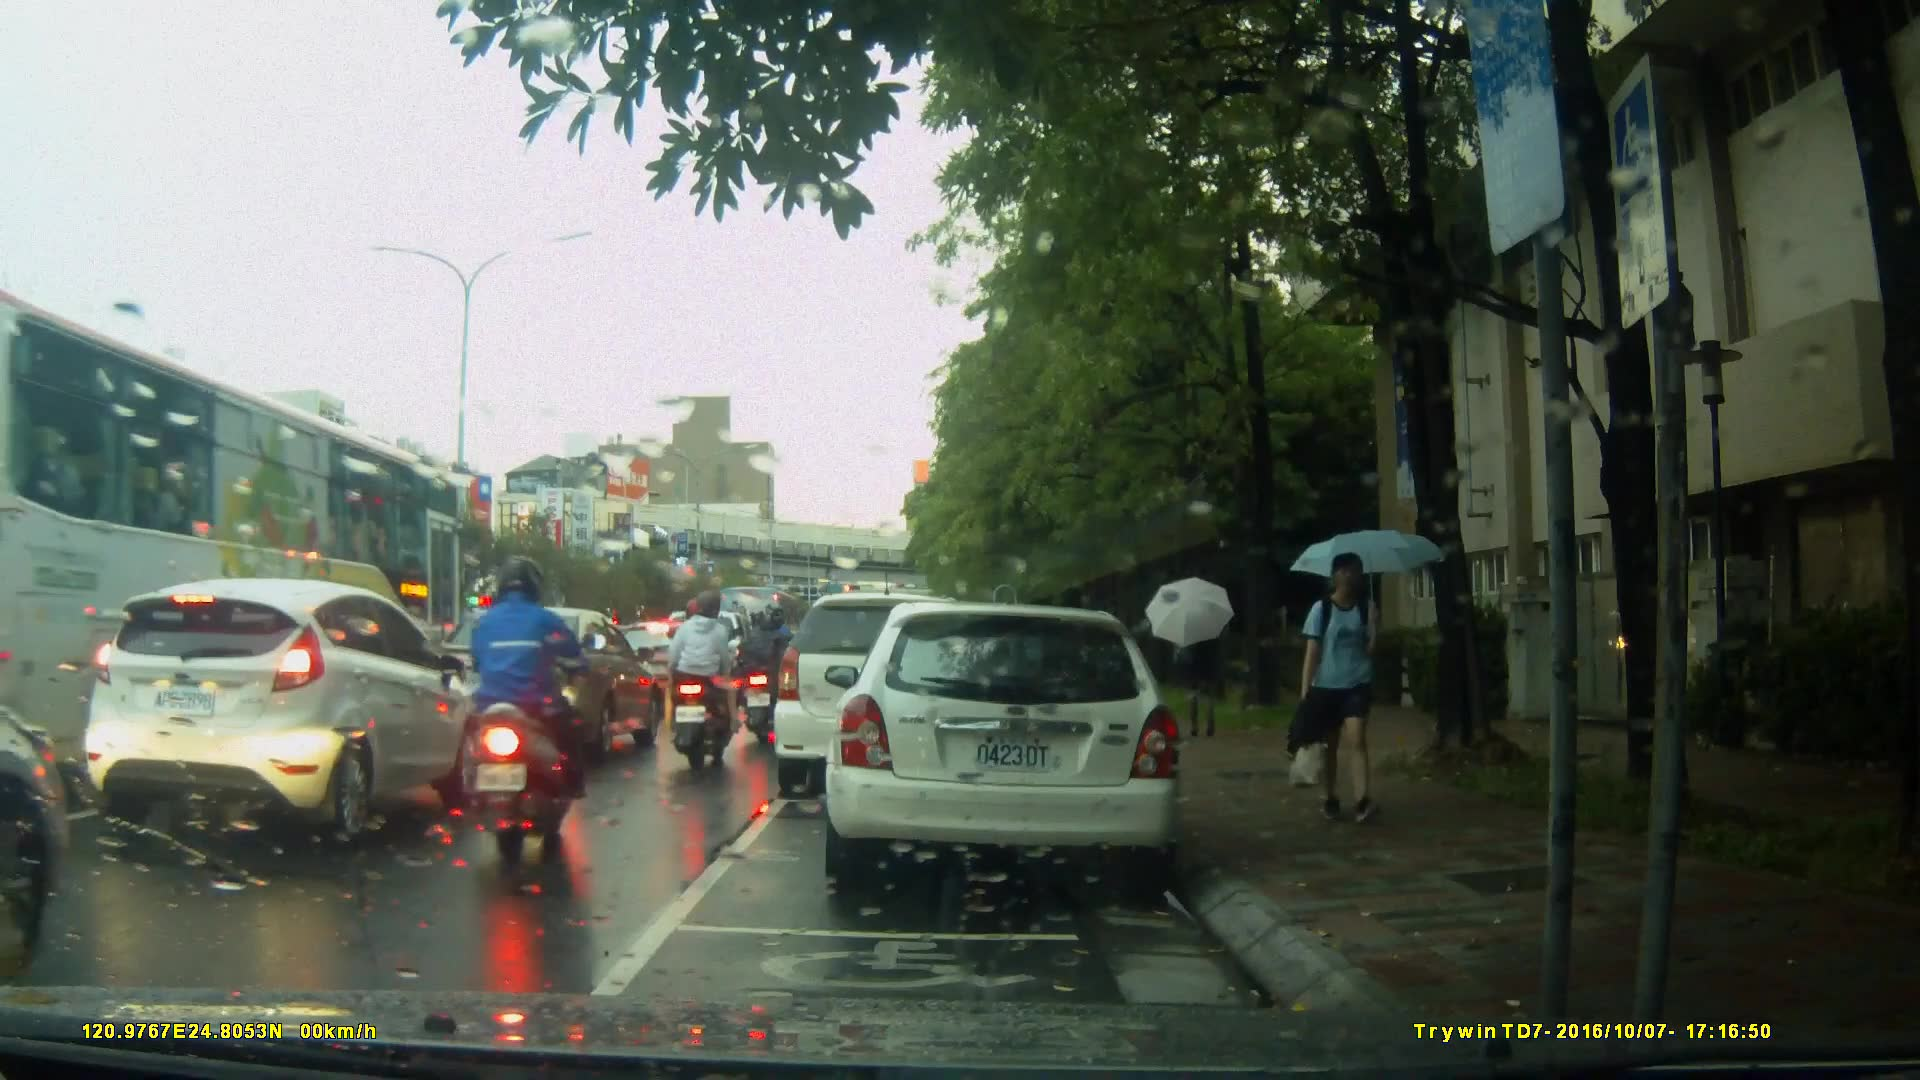pedestrian: (1281, 549, 1402, 827), (1173, 606, 1225, 735)
rider: (470, 556, 590, 854), (669, 592, 744, 781), (738, 602, 780, 746)
vehicle: (1, 290, 482, 810), (80, 575, 484, 848), (835, 594, 1194, 898), (776, 590, 1026, 784), (400, 604, 652, 759), (605, 619, 729, 714)
